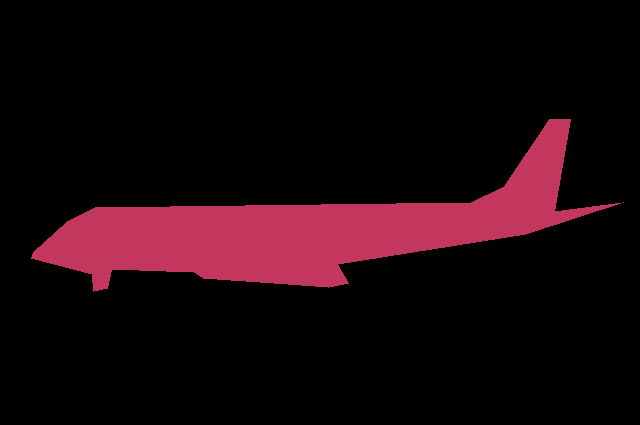Airplane: (31, 119, 623, 292)
